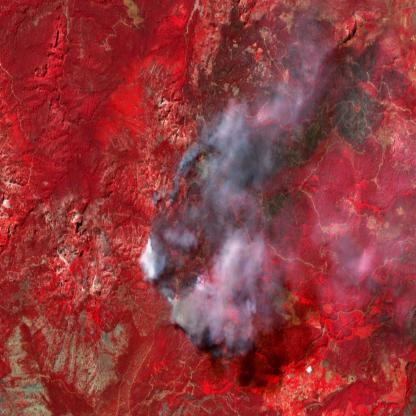fire: (138, 150, 210, 335)
